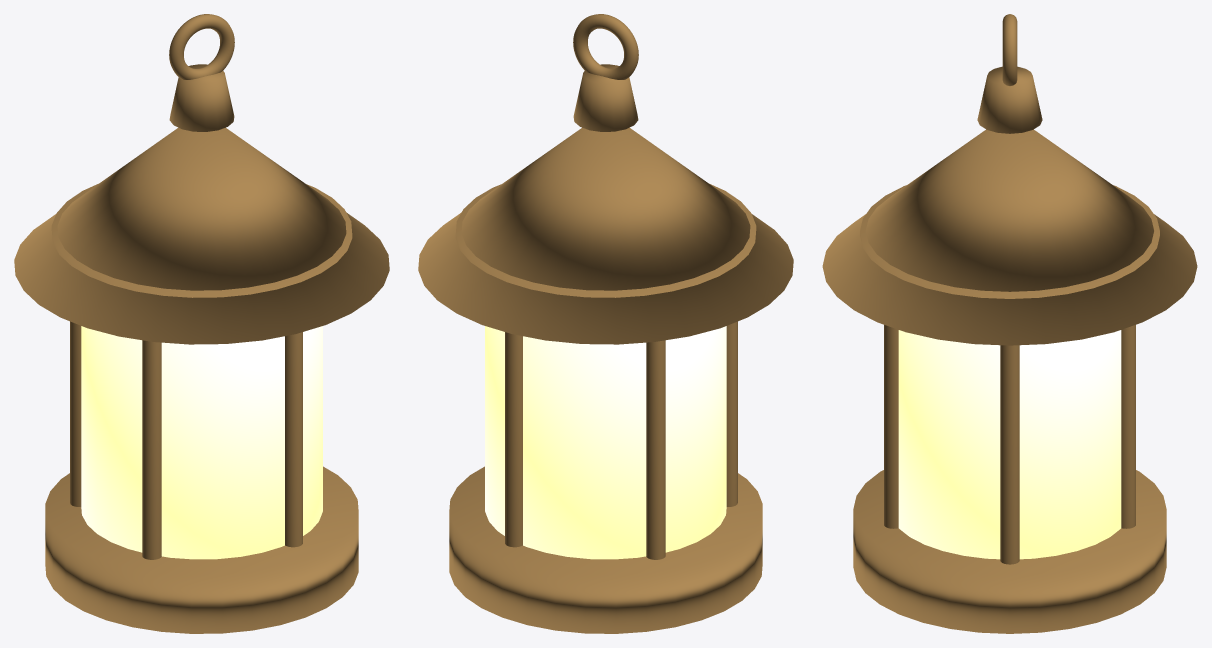
The model's file is 3D模型 props_lantern_hang.glb.
3 views of the same model, side by side, from view 1: azimuth 30°, elevation 25°; view 2: azimuth 150°, elevation 25°; view 3: azimuth 270°, elevation 25° (orthographic).
Visible parts, largest first — view 1: part_cap, part_glass, part_dish, part_rib_3, part_rib_4, part_crown, part_neck, part_ring_top, part_rib_2; view 2: part_cap, part_glass, part_dish, part_rib_2, part_rib_1, part_crown, part_neck, part_ring_top, part_rib_3; view 3: part_cap, part_glass, part_dish, part_rib_0, part_crown, part_neck, part_rib_1, part_rib_4, part_ring_top.
Part boxes in pixels (<box>): part_cap: <box>14,127,389,344</box>; part_glass: <box>81,326,322,559</box>; part_dish: <box>45,466,358,633</box>; part_rib_3: <box>142,340,161,559</box>; part_rib_4: <box>285,332,302,547</box>; part_crown: <box>51,184,352,297</box>; part_neck: <box>169,64,234,131</box>; part_ring_top: <box>169,14,234,79</box>; part_rib_2: <box>70,321,81,506</box>; part_cap: <box>418,127,793,344</box>; part_glass: <box>485,326,726,559</box>; part_dish: <box>449,466,762,633</box>; part_rib_2: <box>646,340,665,559</box>; part_rib_1: <box>505,332,522,547</box>; part_crown: <box>455,184,756,297</box>; part_neck: <box>573,64,638,131</box>; part_ring_top: <box>573,14,638,79</box>; part_rib_3: <box>726,321,737,506</box>; part_cap: <box>822,129,1197,345</box>; part_glass: <box>898,330,1121,559</box>; part_dish: <box>853,470,1166,633</box>; part_rib_0: <box>1000,345,1019,564</box>; part_crown: <box>860,185,1159,298</box>; part_neck: <box>977,66,1042,133</box>; part_rib_1: <box>1121,325,1135,528</box>; part_rib_4: <box>884,325,898,528</box>; part_ring_top: <box>1002,14,1017,85</box>.
Bounding box in the file's own units: 0.23 × 0.3965 × 0.23.
